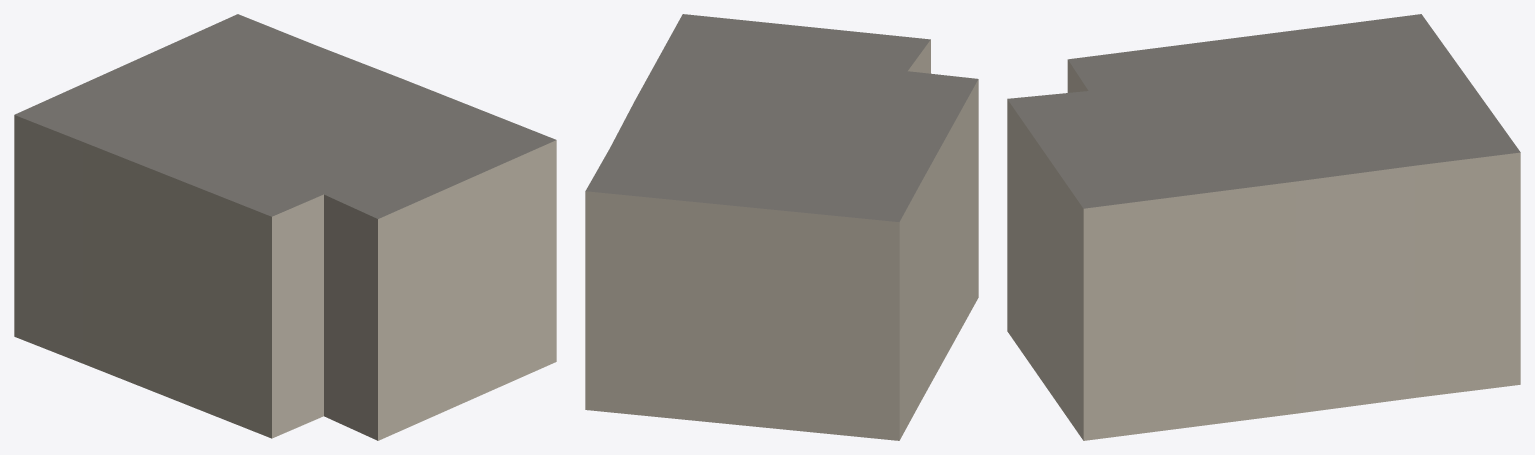
The picture shows the model from 3 angles, left to right: view 1: azimuth 30°, elevation 25°; view 2: azimuth 150°, elevation 25°; view 3: azimuth 270°, elevation 25°; orthographic projection. The views are drawn at different scales.
Parts seen in each view (by area): view 1: HP-w495105530; view 2: HP-w495105530; view 3: HP-w495105530.
Boxes of the visible parts, box(x1,y1,x2,y2) form: HP-w495105530: box(14, 14, 556, 440); HP-w495105530: box(585, 14, 978, 440); HP-w495105530: box(1007, 14, 1520, 440).
Size of the model in its own units: 32.37 by 18 by 36.08.
